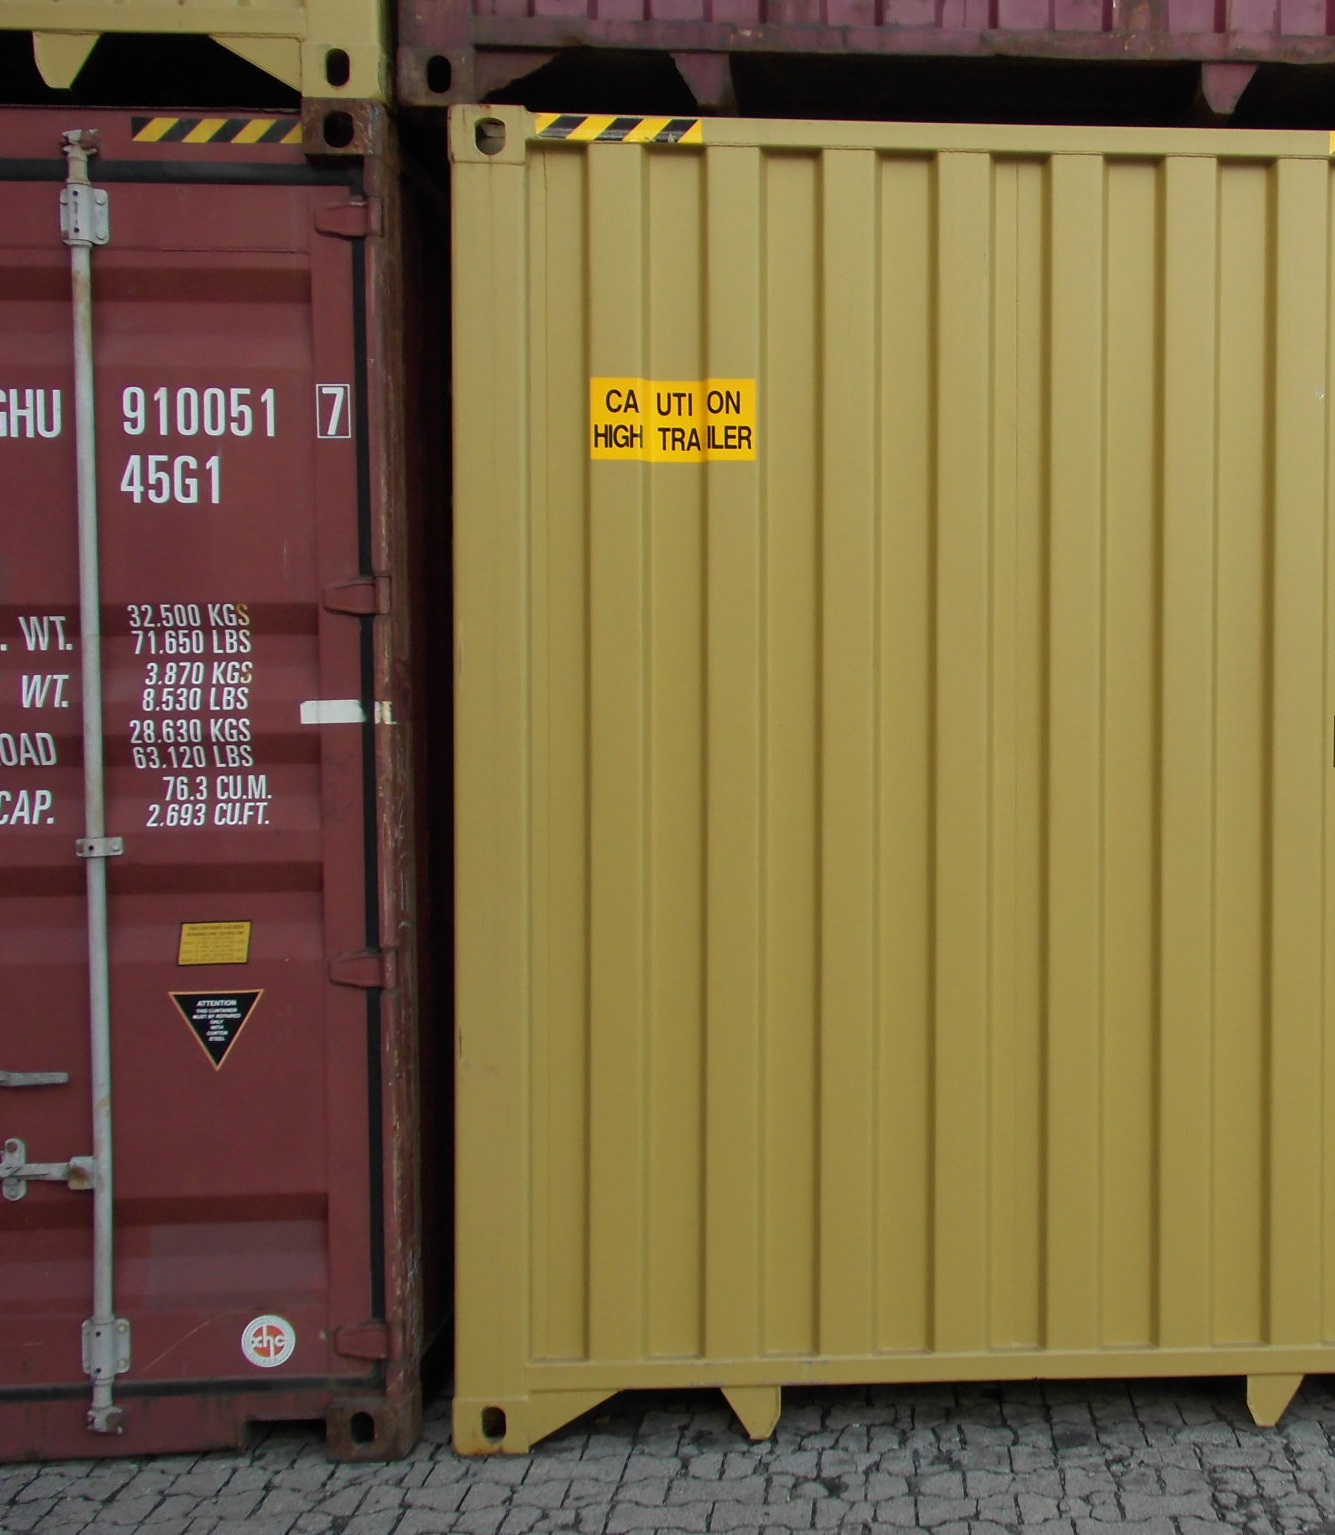container_door: (1, 91, 389, 1481)
container_no_door: (453, 93, 1328, 1454)
